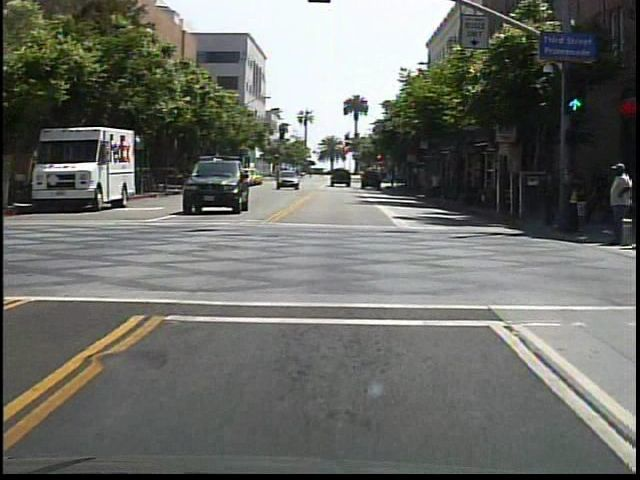person: (601, 161, 629, 247), (538, 160, 560, 234)
